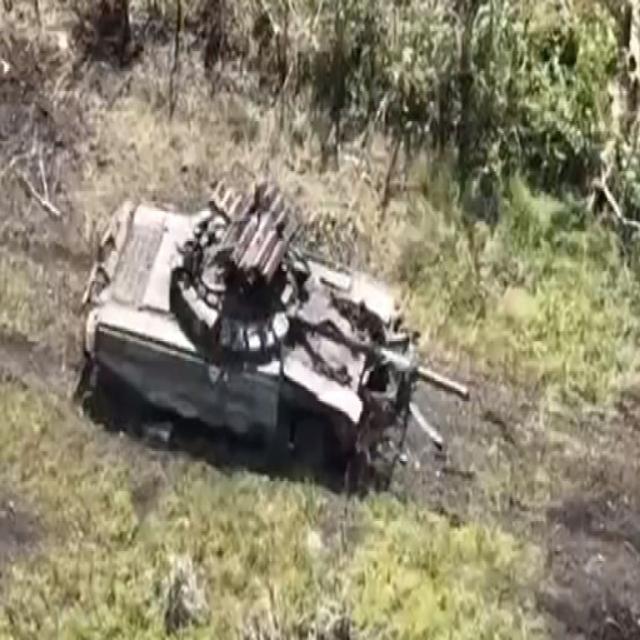TANK: (72, 169, 470, 493)
